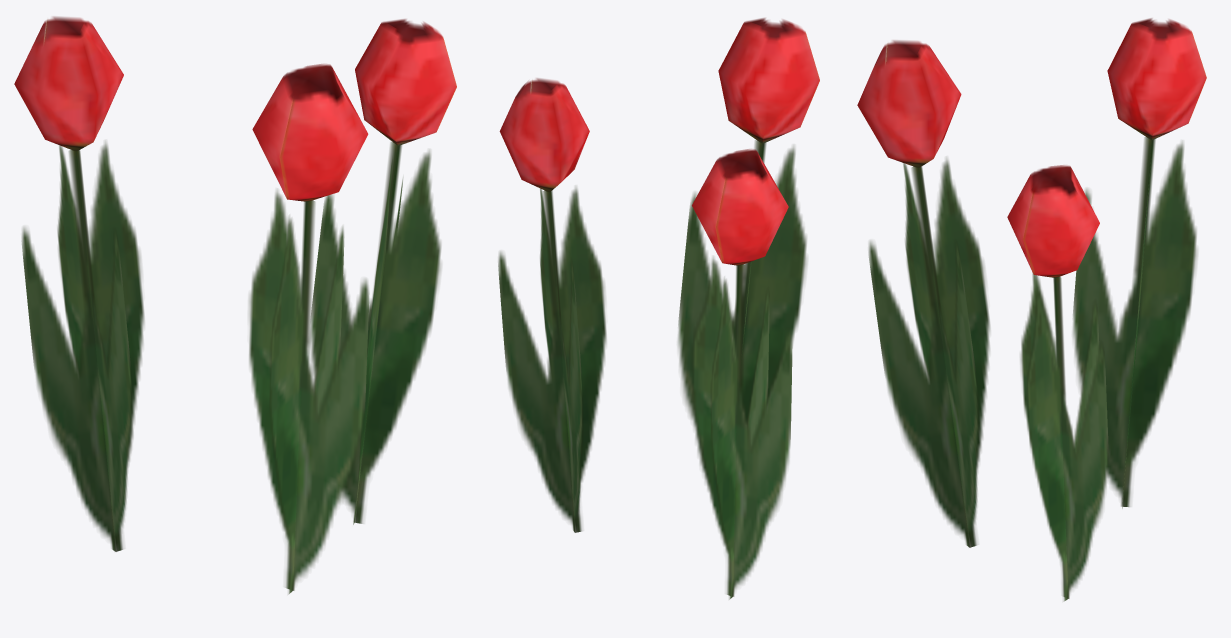
3 renders of one model, left to right at view 1: azimuth 30°, elevation 25°; view 2: azimuth 150°, elevation 25°; view 3: azimuth 270°, elevation 25°, orthographic. The views are drawn at different scales.
Visible parts, largest first — view 1: um_t1_pl020_model_t1_pl020_modelShape; view 2: um_t1_pl020_model_t1_pl020_modelShape; view 3: um_t1_pl020_model_t1_pl020_modelShape.
Part boxes in pixels (<box>): um_t1_pl020_model_t1_pl020_modelShape: <box>14,16,456,593</box>; um_t1_pl020_model_t1_pl020_modelShape: <box>498,18,819,599</box>; um_t1_pl020_model_t1_pl020_modelShape: <box>857,18,1206,601</box>.
Size of the model in its own units: 0.4587 by 0.6398 by 0.4157.
Materials: 1 (1 with a texture image).
